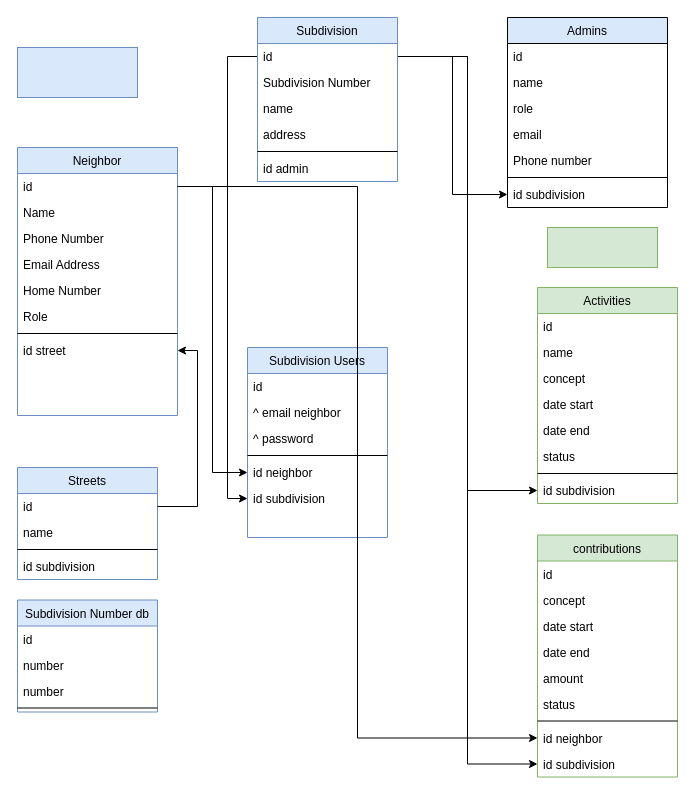
Image size: 695x797. Some labels were removed from this diagram. The shapes that lost their labels are listed below. From the top down, each one's centre as x and y in pixels, then its label:
the point at 77,72: CATALOGS
the point at 602,247: TASKS
